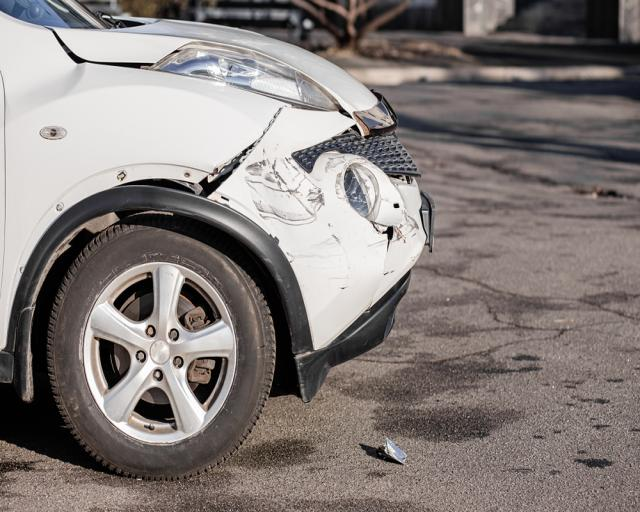crack: (371, 221, 396, 277)
scratch: (247, 160, 322, 222), (288, 229, 345, 265), (327, 152, 356, 200), (395, 209, 418, 242)
